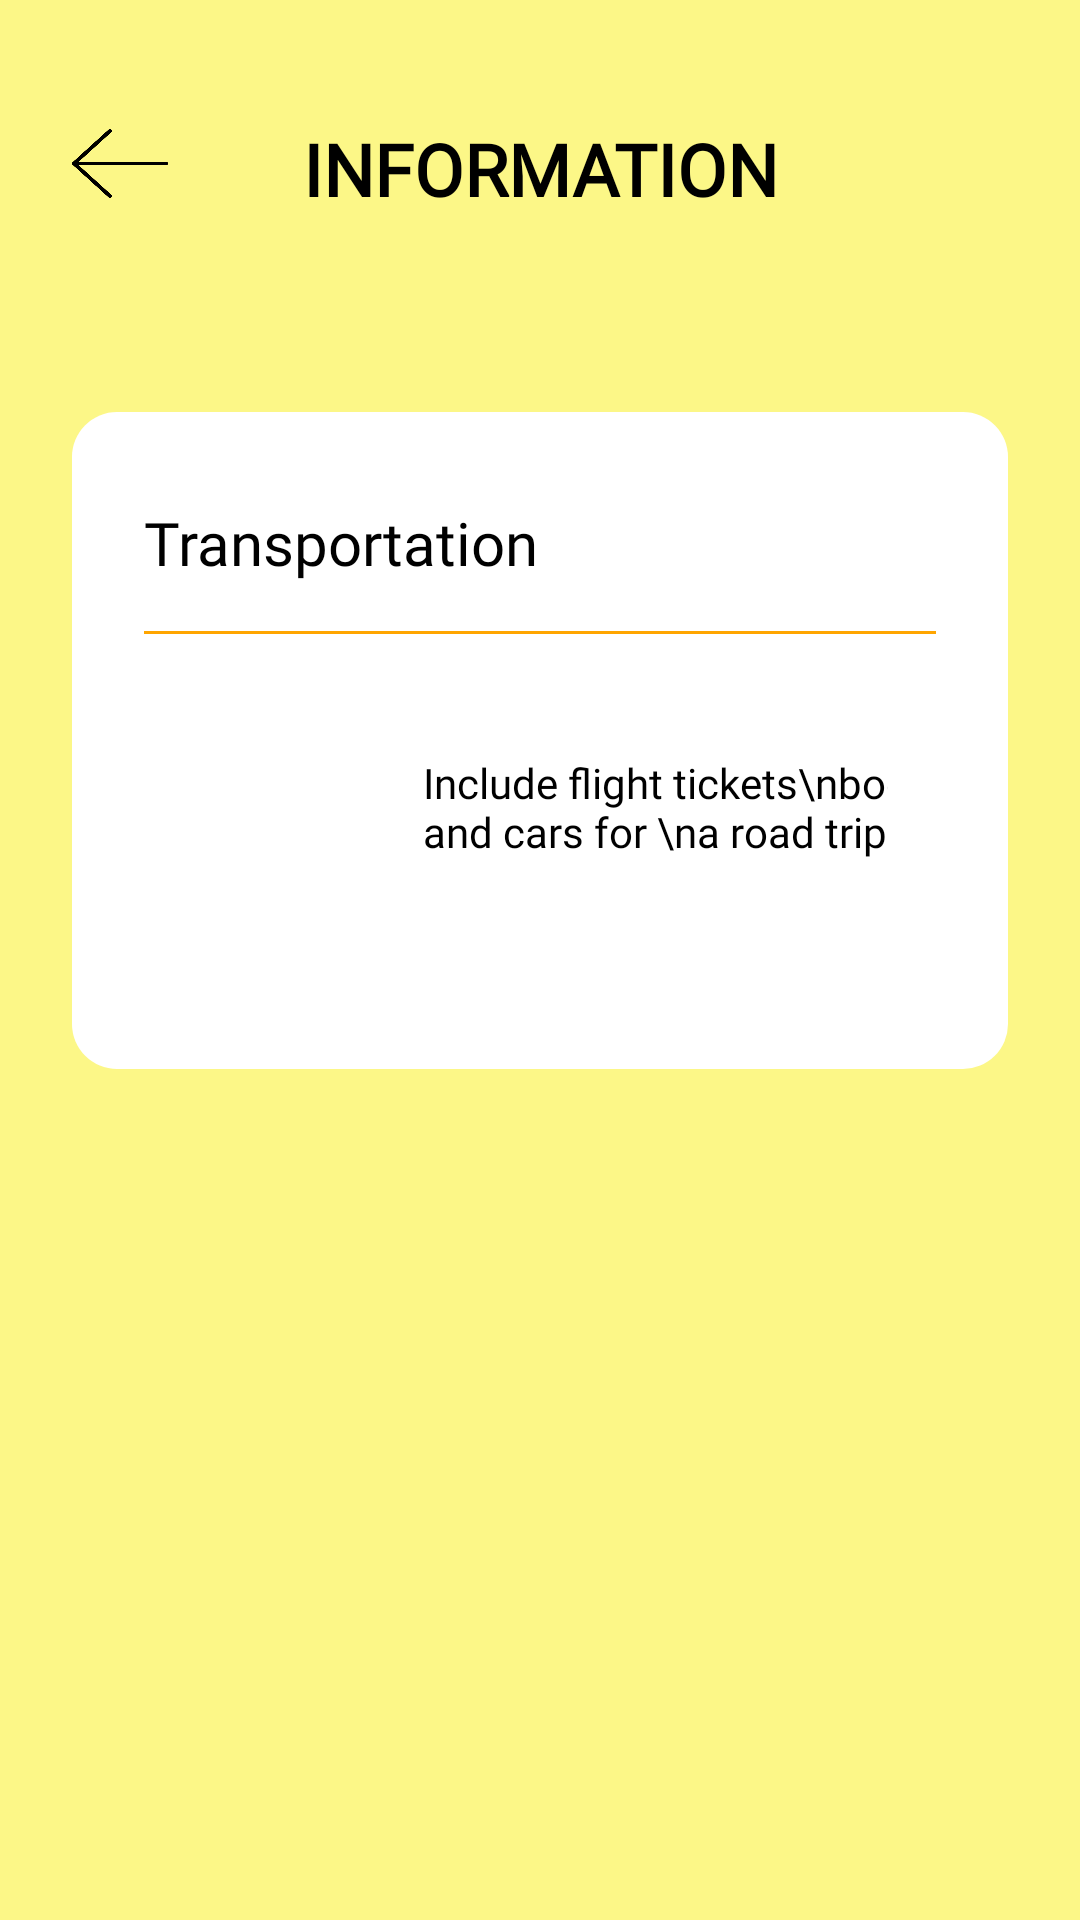

Icon bounding boxes for this 1080*1920 phone screenshot, format (x1, y1, x2, y2):
buttonback: (72, 129, 168, 198)
